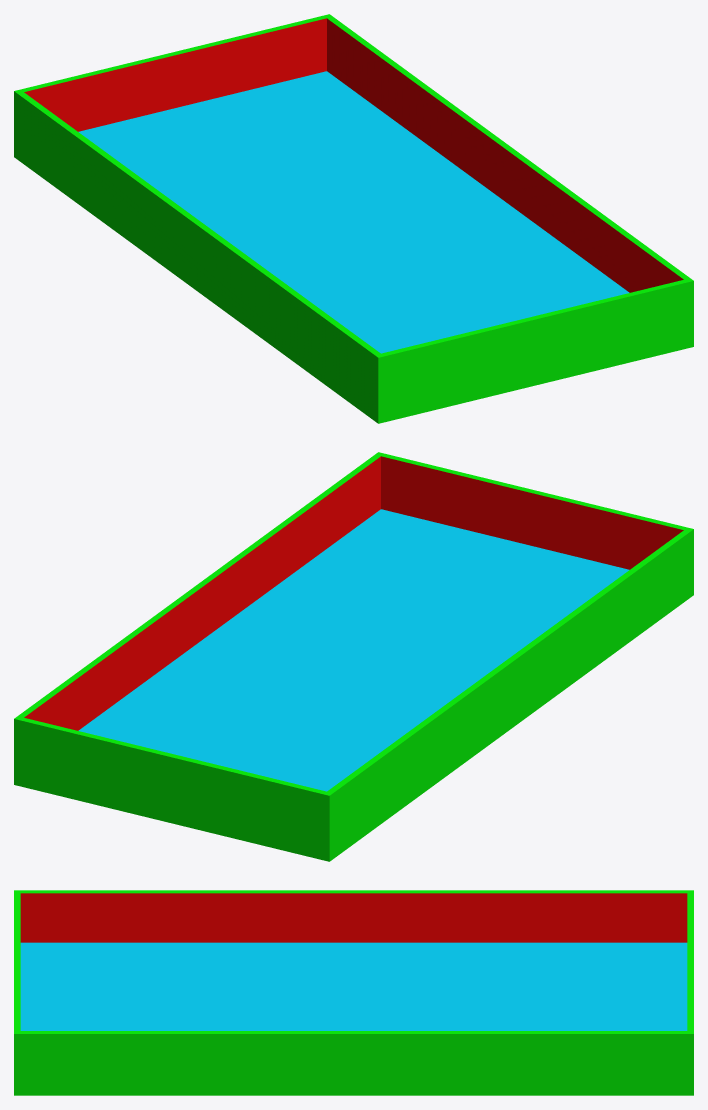
File: Platte.fbx
The picture shows the model from 3 angles, top to bottom: view 1: azimuth 30°, elevation 25°; view 2: azimuth 150°, elevation 25°; view 3: azimuth 270°, elevation 25°; orthographic projection. The views are drawn at different scales.
Visible parts, largest first — view 1: Platte; view 2: Platte; view 3: Platte.
Part boxes in pixels (left/top/right/bottom): Platte: left=14, top=14, right=693, bottom=423; Platte: left=14, top=452, right=693, bottom=861; Platte: left=14, top=890, right=693, bottom=1095.
Bounding box in the file's own units: 50 × 10 × 100.
